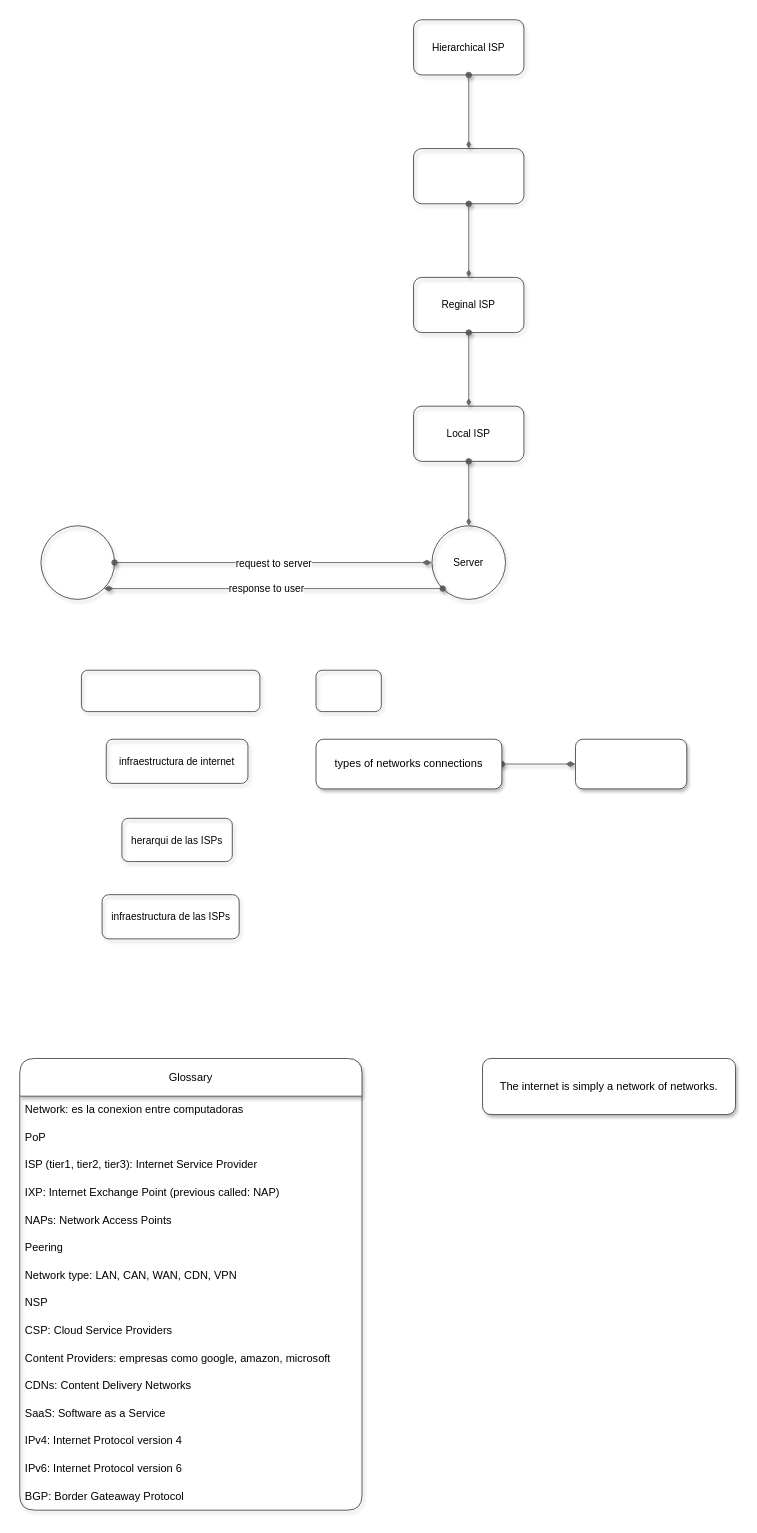
Some shapes in this 757 by 1533 pixel diagram are drawn without their labels. Here are the shapes that lost their labels. From the top down, the centre of each, then its label:
the point at 469,177: Global ISP
the point at 78,563: user
the point at 171,692: transferencias de paquetes/frames
the point at 349,692: protocolos
the point at 631,765: wireless, wifi, etc
